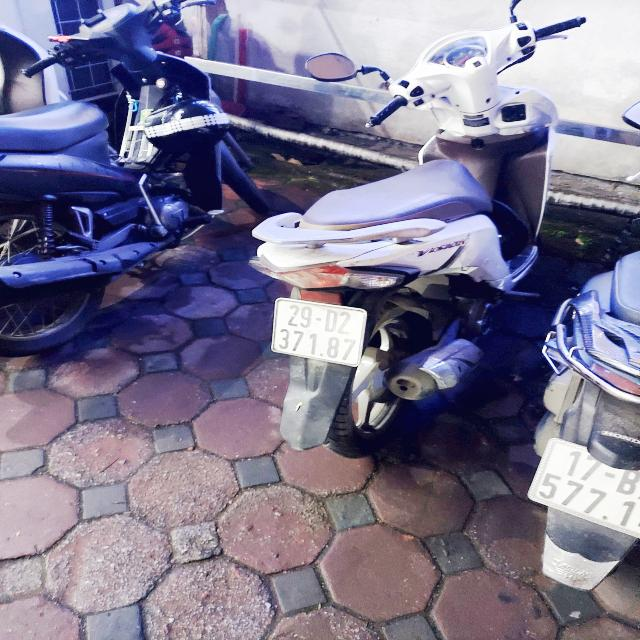license_plate: (270, 296, 367, 369)
